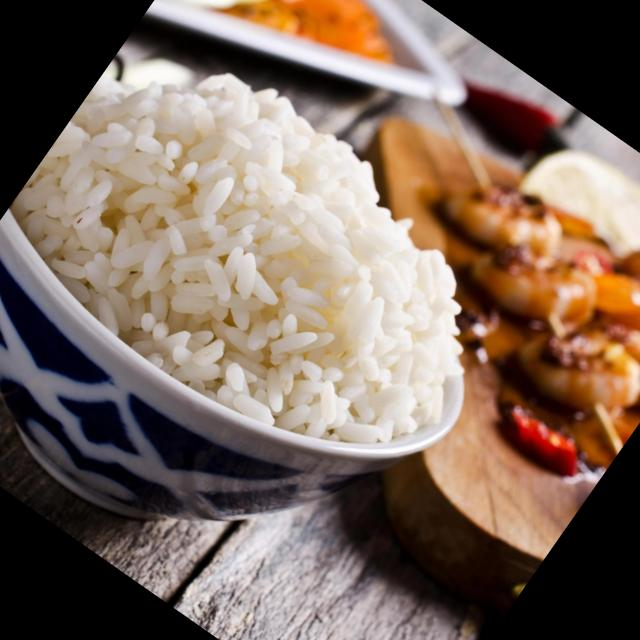rice: (9, 77, 463, 441)
